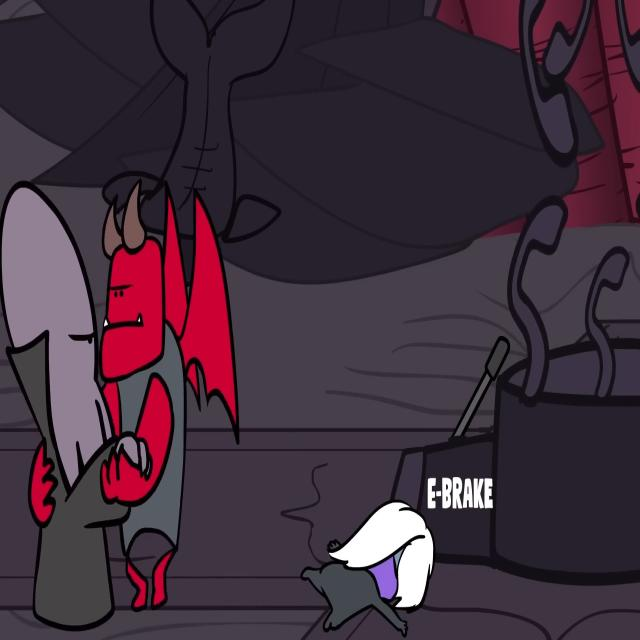miss Demeanor: (298, 496, 438, 639)
